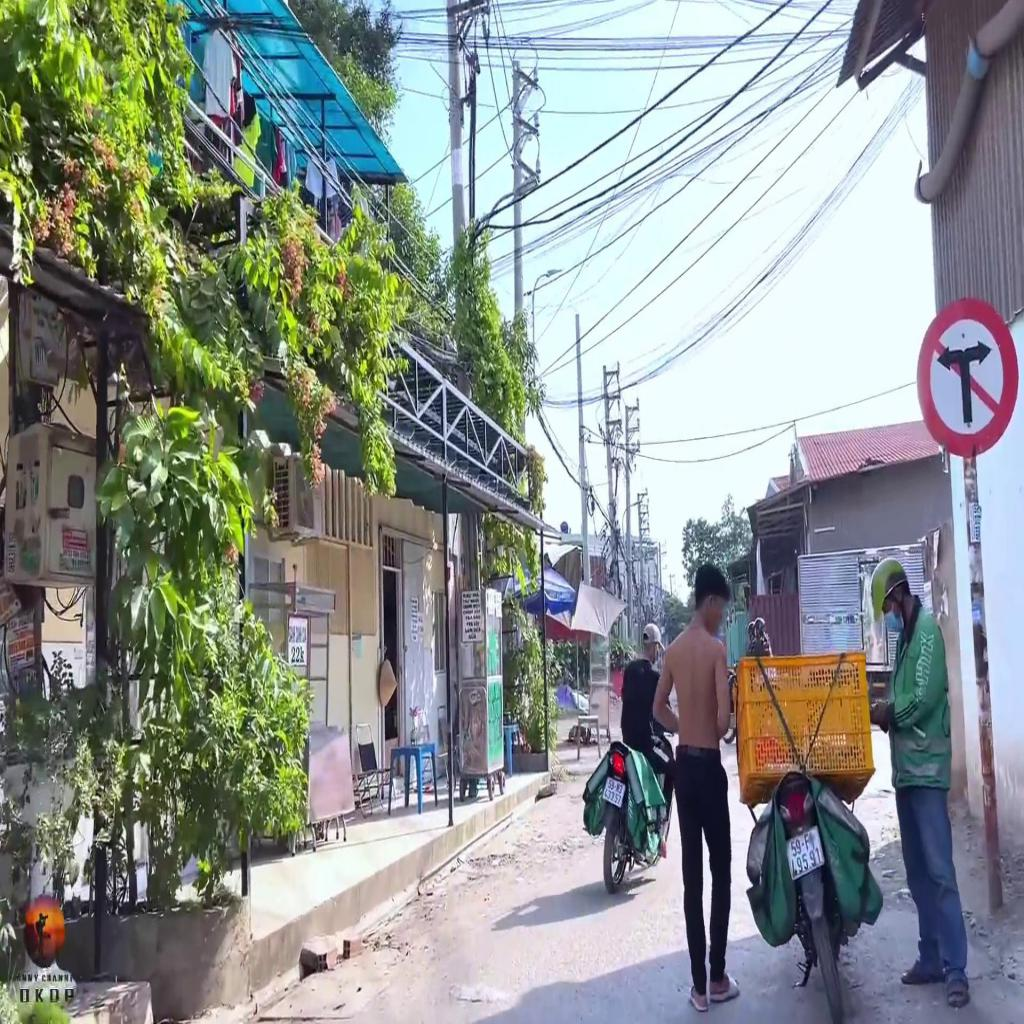cam_re_trai_va_phai: (914, 291, 1020, 456)
